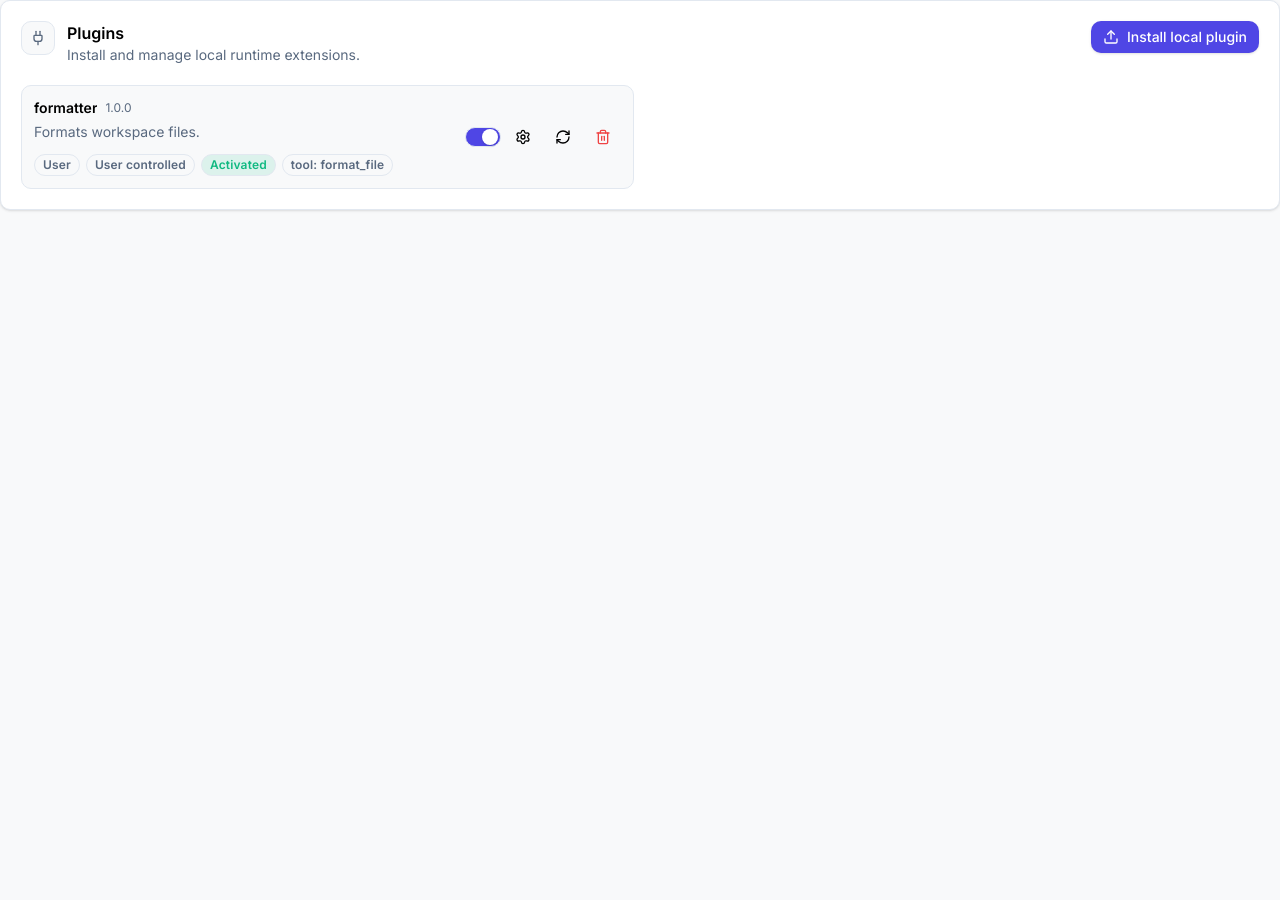
Test case: PluginsManager › shows plugin state, trust, source, capabilities, details, and config fields
Expected: the text "1.0.0" is shown, [106, 100, 132, 116]
Expected: the text "User" is shown, [34, 154, 80, 176]
Click the button named "View formatter details" at {"x": 523, "y": 137}, box [505, 119, 541, 155]
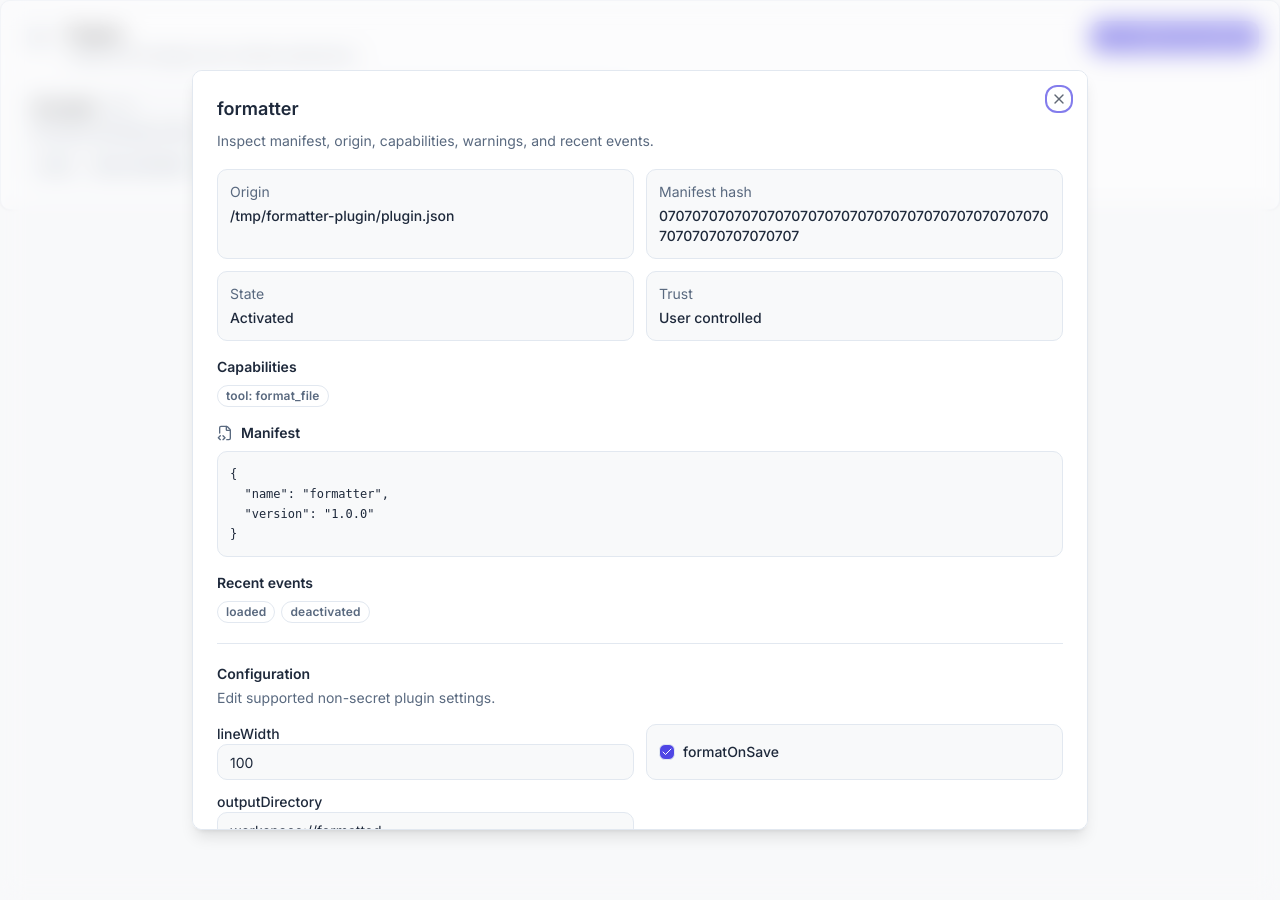
Now the text "/tmp/formatter-plugin/plugin.json" is shown, box [230, 207, 454, 224]
Now the number field showing "100" is shown, box [217, 744, 634, 780]
